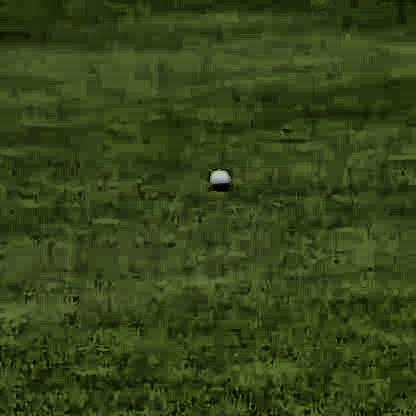golfball: (206, 166, 228, 188)
